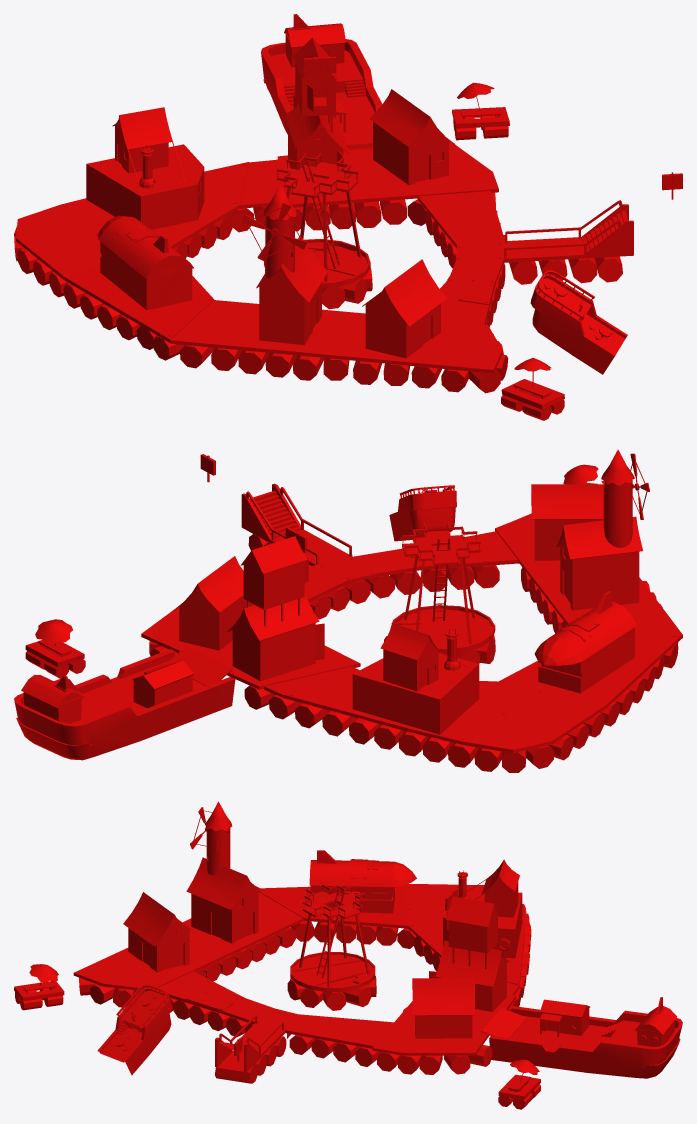
The model's file is Neighborhood_BearTown_02.glb.
3 renders of one model, top to bottom at view 1: azimuth 30°, elevation 25°; view 2: azimuth 150°, elevation 25°; view 3: azimuth 270°, elevation 25°, orthographic. The views are drawn at different scales.
Parts seen in each view (by area): view 1: polySurface300, pCube445, polySurface230, pCube353, polySurface242, polySurface226, pCube380, polySurface278, polySurface240, polySurface301, polySurface303, polySurface304 (+5 smaller); view 2: polySurface300, polySurface301, polySurface242, pCube445, polySurface230, pCube353, pCube380, polySurface240, polySurface226, polySurface278, polySurface304, polySurface296 (+16 smaller); view 3: polySurface300, polySurface301, polySurface230, polySurface242, pCube380, pCube353, polySurface240, polySurface278, polySurface226, pCube445, polySurface303, polySurface302 (+3 smaller).
Part boxes in pixels (bbox=[...]): polySurface300: bbox=[16, 140, 633, 373]; pCube445: bbox=[86, 107, 204, 229]; polySurface230: bbox=[256, 184, 327, 345]; pCube353: bbox=[97, 215, 193, 310]; polySurface242: bbox=[285, 37, 348, 192]; polySurface226: bbox=[362, 259, 446, 358]; pCube380: bbox=[264, 153, 370, 288]; polySurface278: bbox=[530, 270, 627, 374]; polySurface240: bbox=[369, 89, 454, 184]; polySurface301: bbox=[261, 39, 382, 151]; polySurface303: bbox=[501, 358, 564, 420]; polySurface304: bbox=[452, 82, 509, 140]; polySurface300: bbox=[141, 483, 682, 753]; polySurface301: bbox=[14, 646, 235, 760]; polySurface242: bbox=[227, 527, 324, 681]; pCube445: bbox=[352, 623, 479, 734]; polySurface230: bbox=[556, 449, 642, 610]; pCube353: bbox=[534, 591, 636, 693]; pCube380: bbox=[390, 522, 495, 654]; polySurface240: bbox=[173, 556, 253, 650]; polySurface226: bbox=[531, 484, 603, 560]; polySurface278: bbox=[389, 485, 456, 541]; polySurface304: bbox=[25, 619, 85, 678]; polySurface296: bbox=[21, 674, 84, 723]; polySurface300: bbox=[73, 883, 524, 1072]; polySurface301: bbox=[481, 1006, 682, 1078]; polySurface230: bbox=[186, 801, 261, 943]; polySurface242: bbox=[429, 888, 509, 1011]; pCube380: bbox=[290, 884, 375, 991]; pCube353: bbox=[309, 850, 416, 913]; polySurface240: bbox=[412, 978, 474, 1038]; polySurface278: bbox=[97, 984, 172, 1075]; polySurface226: bbox=[123, 892, 192, 972]; pCube445: bbox=[443, 859, 522, 958]; polySurface303: bbox=[14, 964, 64, 1010]; polySurface302: bbox=[539, 999, 590, 1036].
Bounding box in the file's own units: 44.76 × 16.75 × 61.8.
